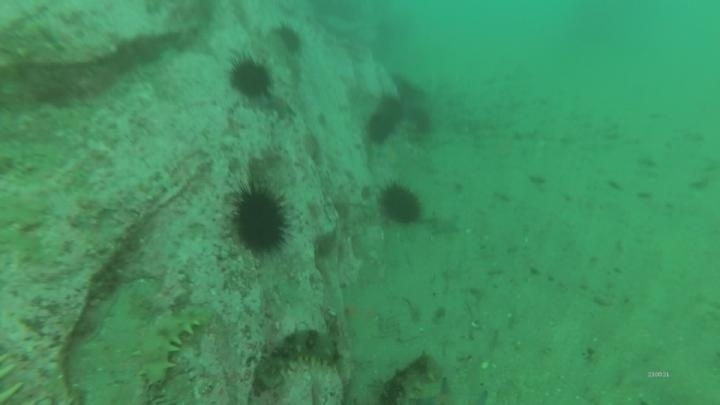echinus: (227, 182, 293, 256), (226, 54, 274, 101), (376, 181, 425, 227), (363, 110, 398, 146), (392, 75, 429, 109), (272, 23, 306, 57), (375, 94, 406, 129), (404, 104, 435, 138)
holothurian: (133, 303, 212, 391), (256, 325, 341, 385)
starfish: (264, 88, 298, 122), (425, 208, 463, 238)
